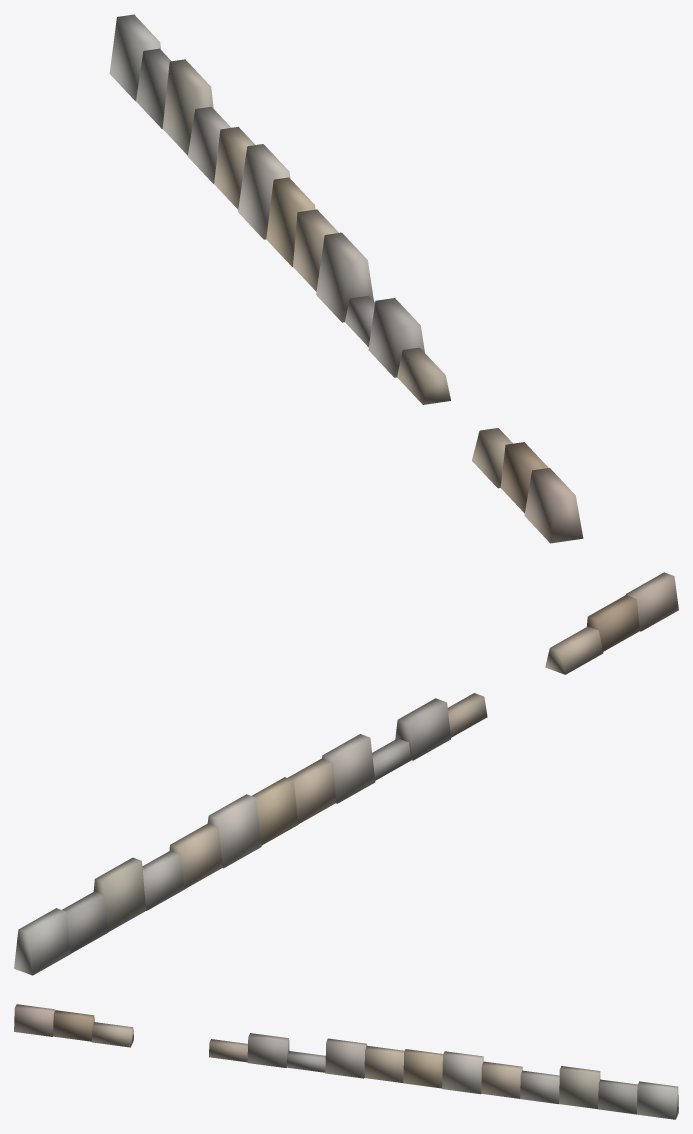
File: farm_-5_-2_collision.glb
The picture shows the model from 3 angles, top to bottom: view 1: azimuth 30°, elevation 25°; view 2: azimuth 150°, elevation 25°; view 3: azimuth 270°, elevation 25°; orthographic projection. The views are drawn at different scales.
Visible parts, largest first — view 1: geometry_0; view 2: geometry_0; view 3: geometry_0.
Part boxes in pixels (<box>): geometry_0: <box>109,14,583,543</box>; geometry_0: <box>14,572,678,975</box>; geometry_0: <box>14,1004,678,1119</box>.
Bounding box in the file's own units: 5.79 × 2.5 × 26.72.
